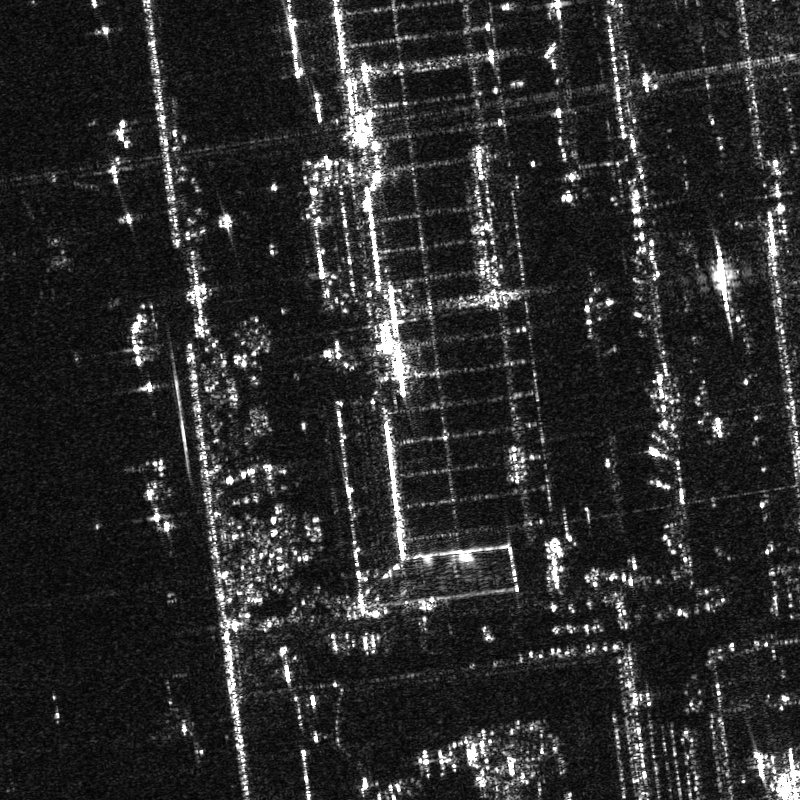Boeing787: (1, 202, 91, 311)
